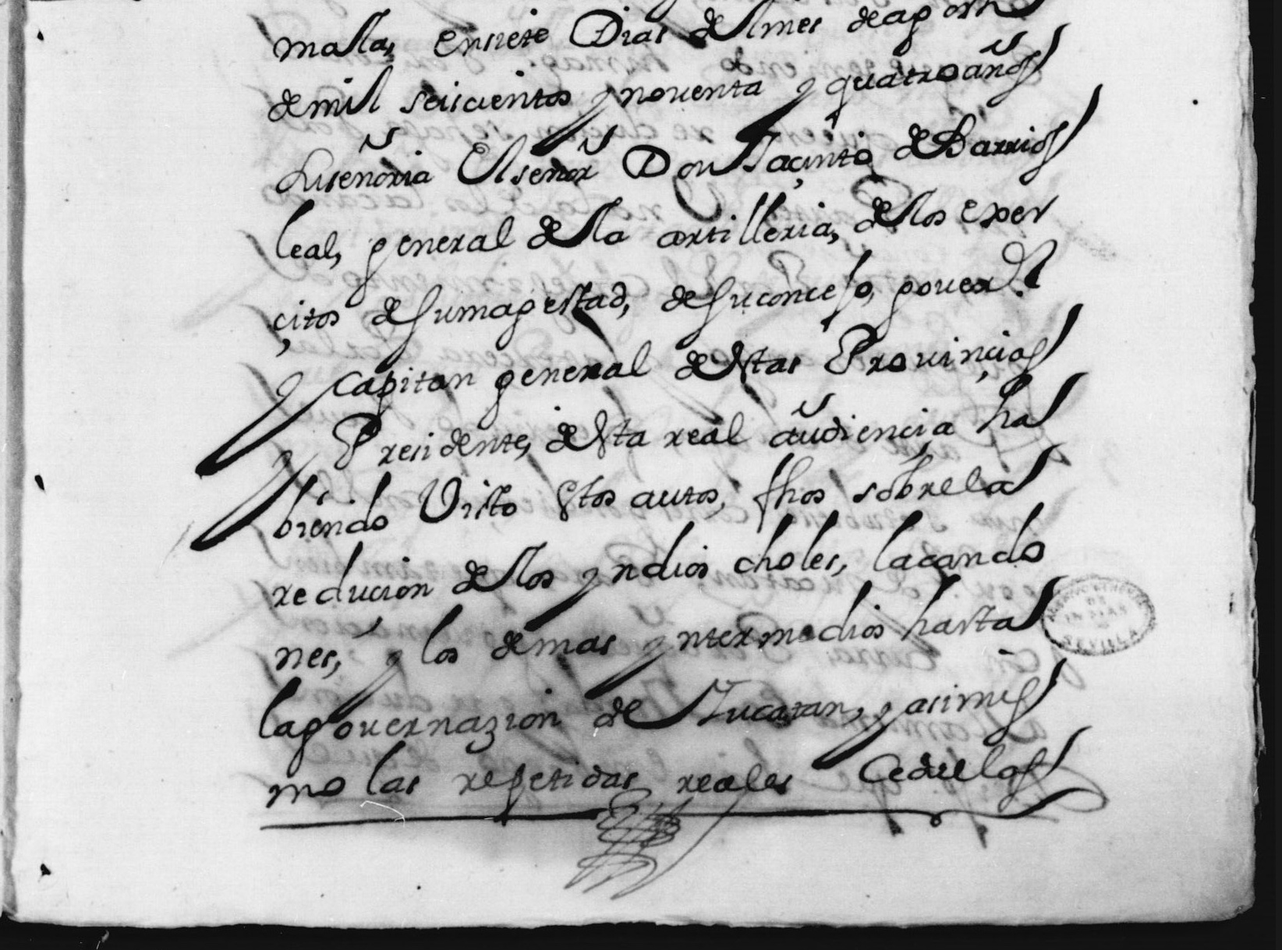lacandon: (873, 501, 1045, 571)
